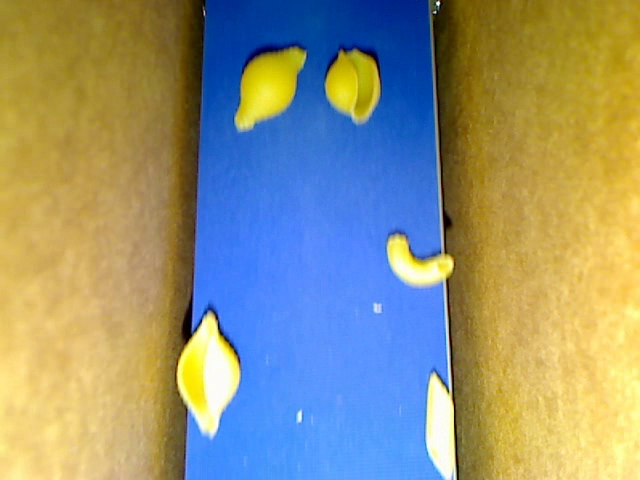elbow: (386, 232, 454, 289)
penne: (425, 369, 455, 478)
shell: (175, 309, 239, 439), (233, 47, 307, 130), (325, 48, 381, 125)
